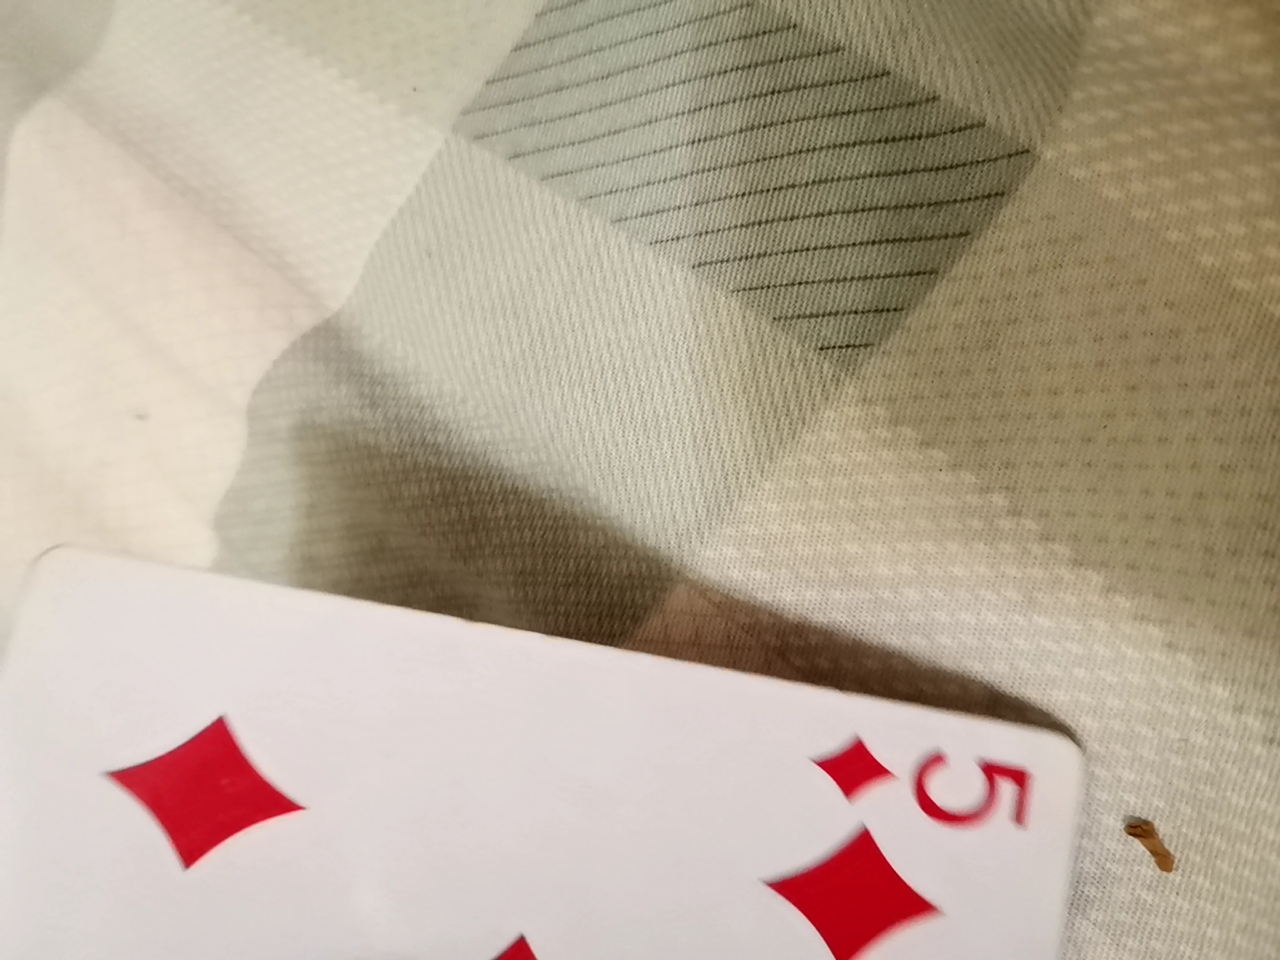fk 5: (3, 545, 1112, 959)
